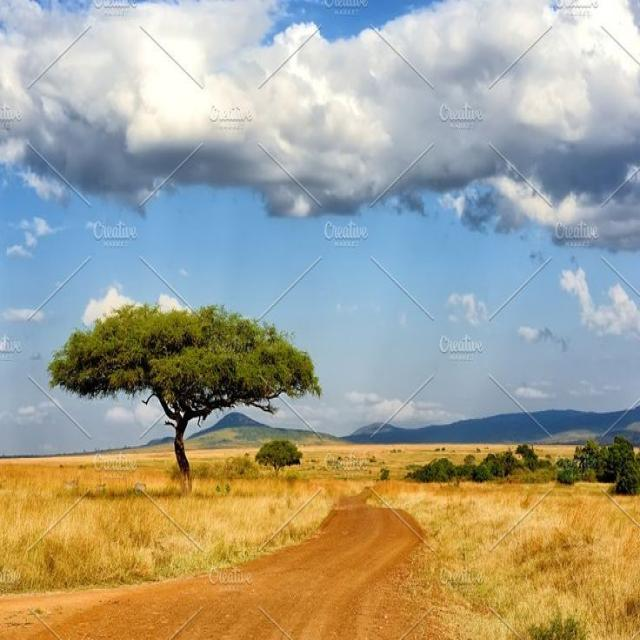Acacia: (55, 307, 311, 465)
